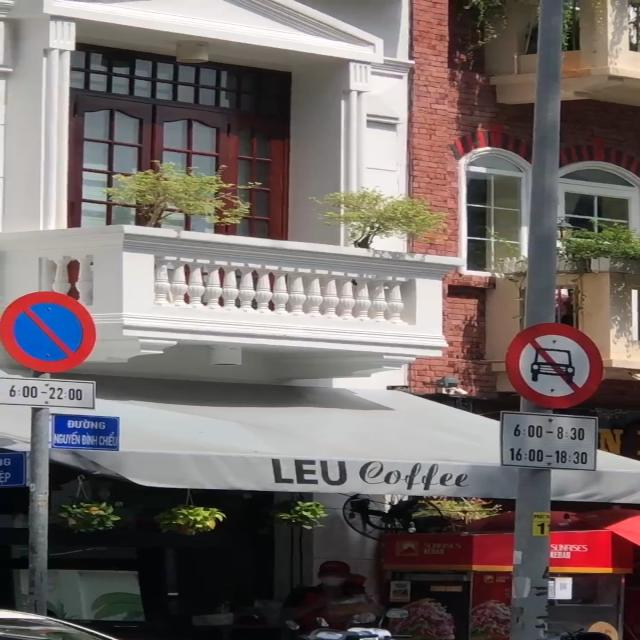Bien bao cam do xe: (2, 286, 99, 378)
Bien bao cam xe oto: (496, 319, 623, 413)
